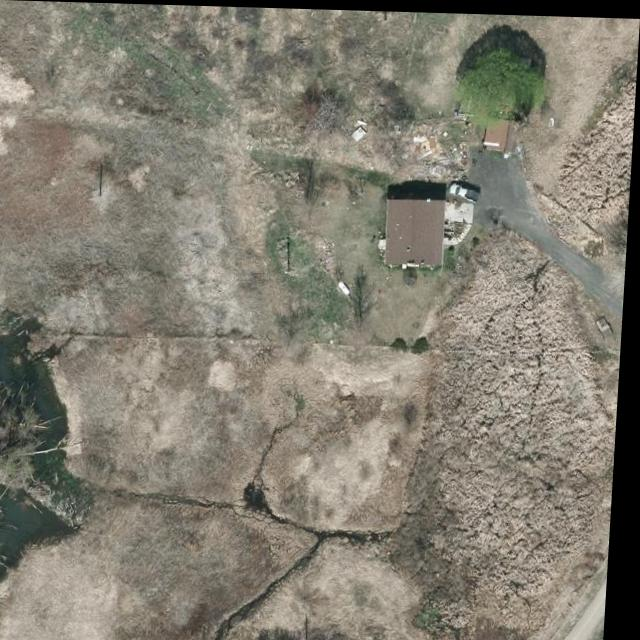vehicle: (449, 179, 484, 201)
